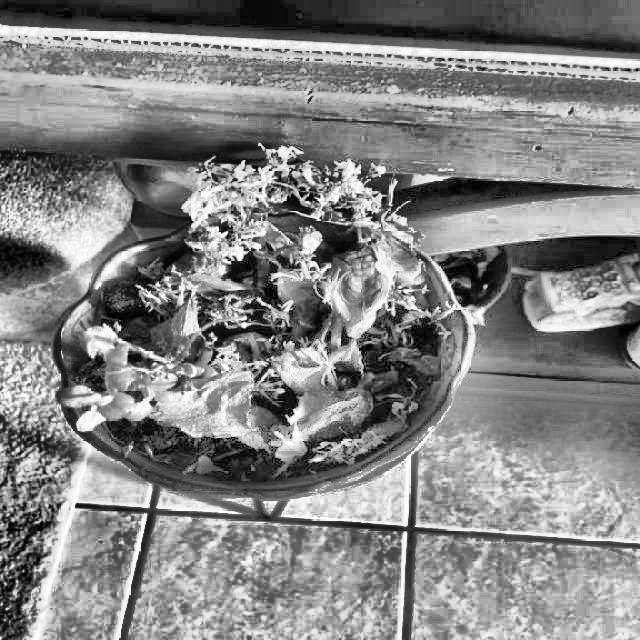plants: (61, 280, 420, 489)
